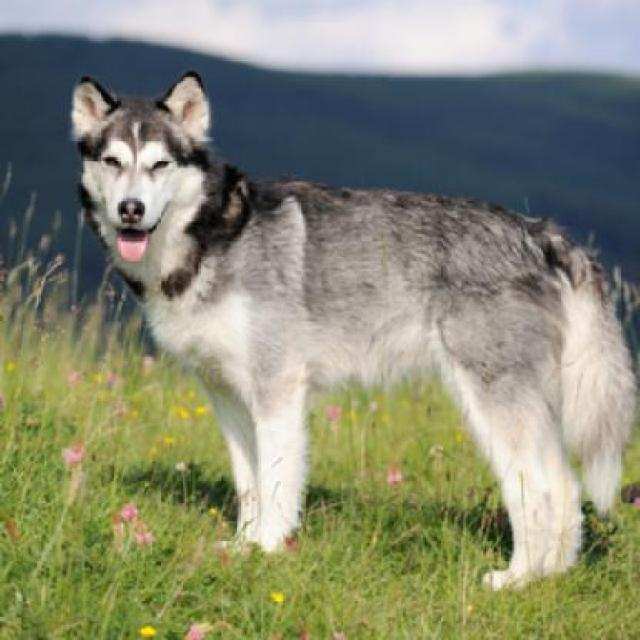animals: (49, 53, 623, 581)
